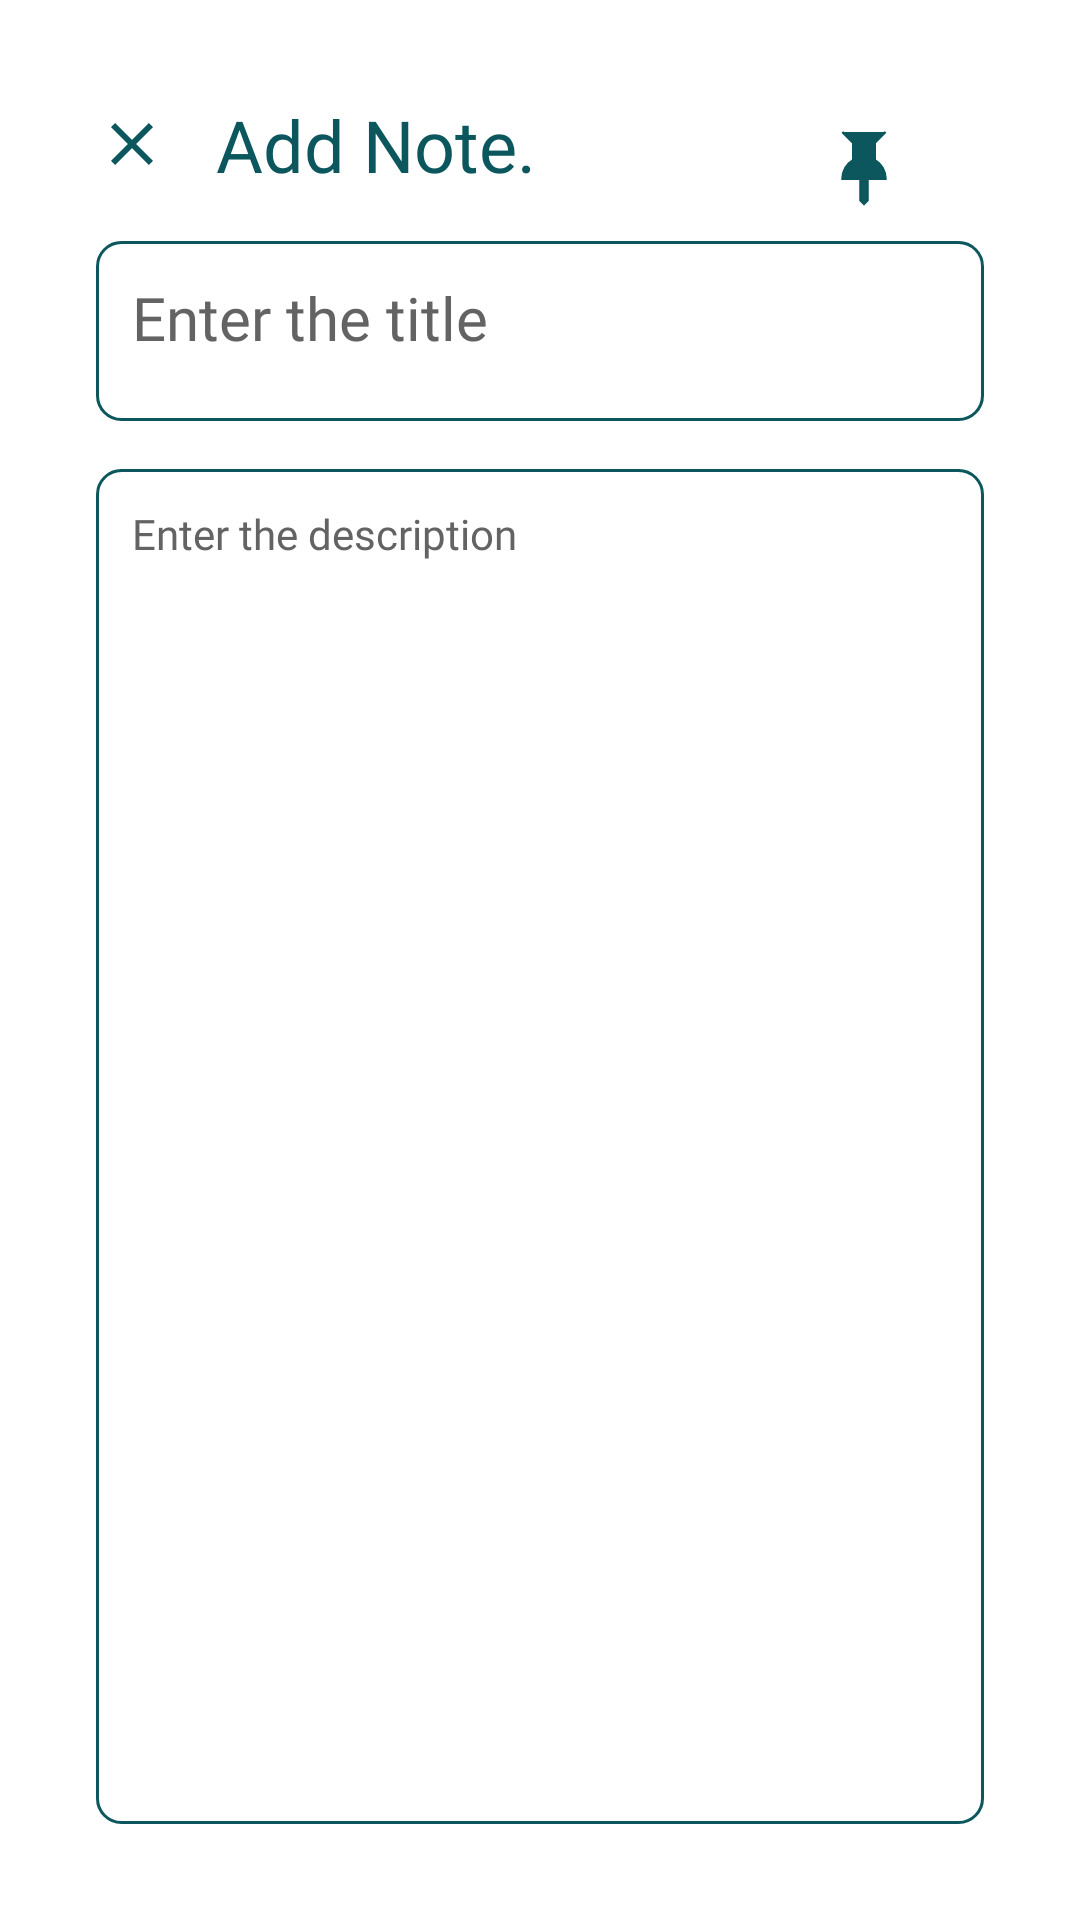

Where icons sit on this 1080×1920 app screen, as (x1, y1, x2, y2):
Image button to pin the note: (841, 131, 887, 206)
